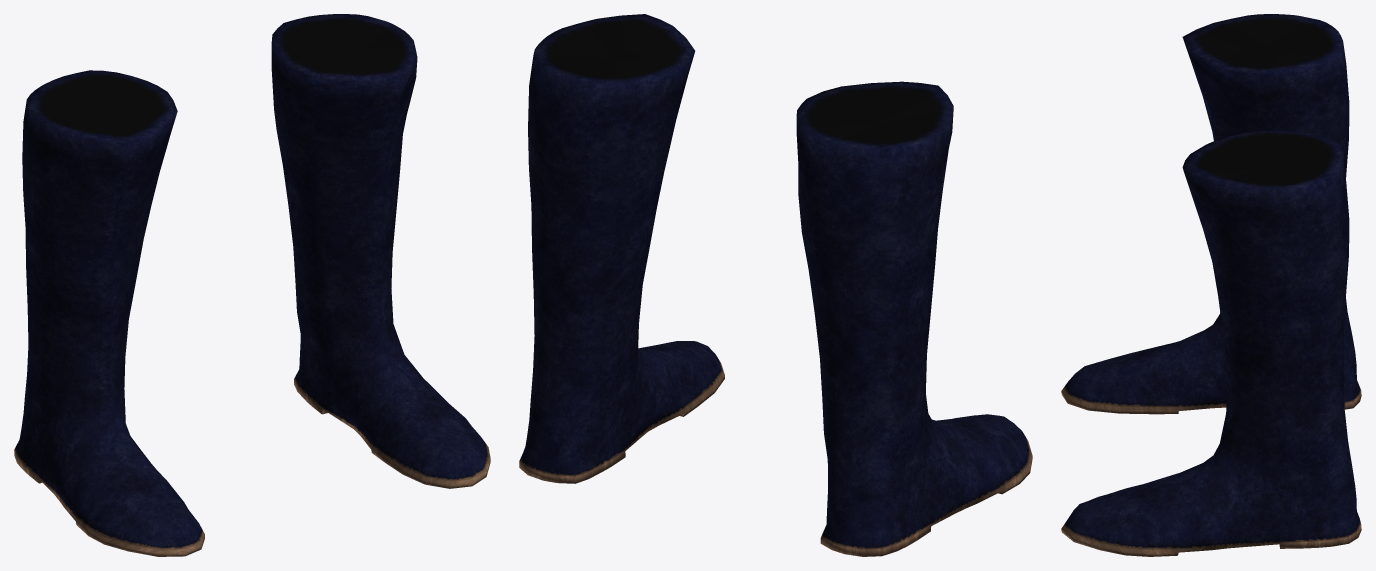
The model's file is swan_knight_basic_boots.fbx.
The picture shows the model from 3 angles, left to right: view 1: azimuth 30°, elevation 25°; view 2: azimuth 150°, elevation 25°; view 3: azimuth 270°, elevation 25°; orthographic projection. The views are drawn at different scales.
Visible parts, largest first — view 1: swan_knight_basic_boots; view 2: swan_knight_basic_boots; view 3: swan_knight_basic_boots.
Boxes of the visible parts, x1=… form: swan_knight_basic_boots: x1=14, y1=14, x2=490, y2=556; swan_knight_basic_boots: x1=519, y1=14, x2=1032, y2=556; swan_knight_basic_boots: x1=1061, y1=14, x2=1361, y2=556.
Bounding box in the file's own units: 0.4653 × 0.315 × 0.4226.
Materials: 1 (1 with a texture image).
